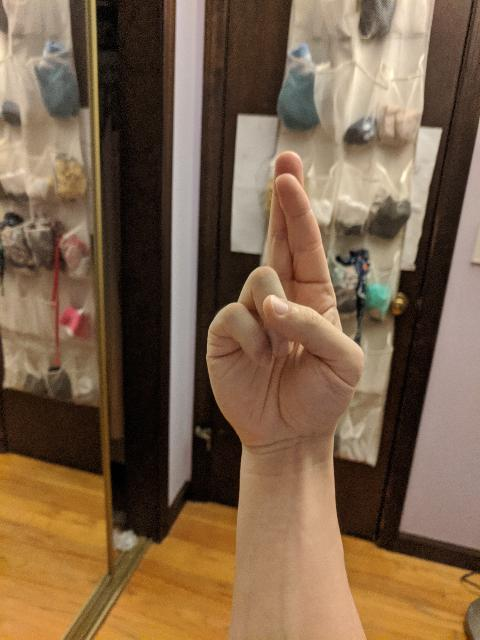R: (199, 145, 367, 457)
